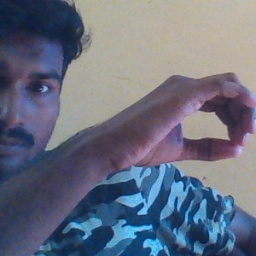O: (102, 55, 256, 179)
